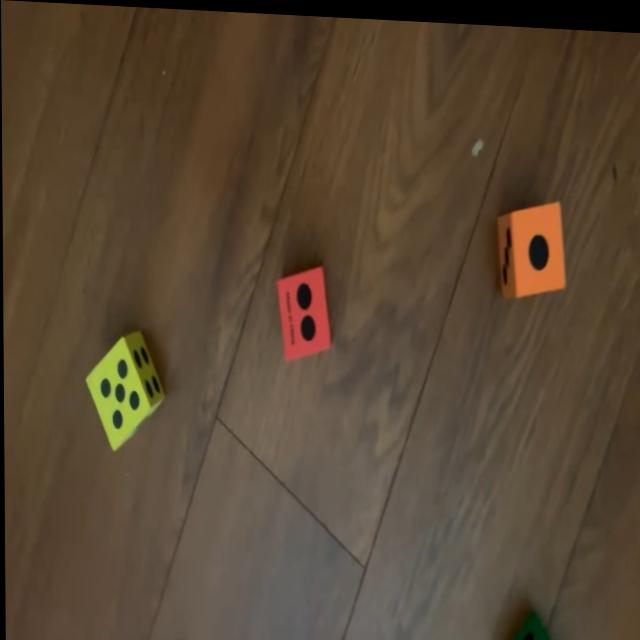cube: (275, 263, 330, 359), (501, 602, 562, 640)
